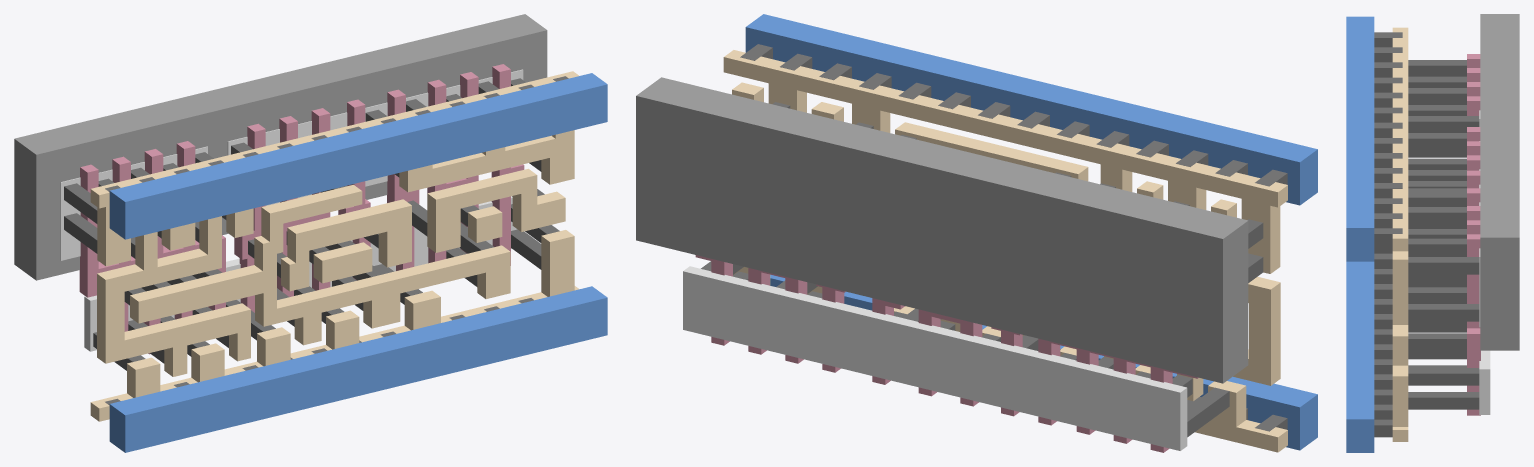
The model's file is sky130_fd_sc_hd__a211o_4.gds.gltf.
The picture shows the model from 3 angles, left to right: view 1: azimuth 30°, elevation 25°; view 2: azimuth 150°, elevation 25°; view 3: azimuth 270°, elevation 25°; orthographic projection. The views are drawn at different scales.
Parts seen in each view (by area): view 1: sky130_fd_sc_hd__a211o_4_li1, sky130_fd_sc_hd__a211o_4_met1, sky130_fd_sc_hd__a211o_4_nwell, sky130_fd_sc_hd__a211o_4_poly, sky130_fd_sc_hd__a211o_4_licon, sky130_fd_sc_hd__a211o_4_diff, sky130_fd_sc_hd__a211o_4_mcon; view 2: sky130_fd_sc_hd__a211o_4_nwell, sky130_fd_sc_hd__a211o_4_diff, sky130_fd_sc_hd__a211o_4_li1, sky130_fd_sc_hd__a211o_4_met1, sky130_fd_sc_hd__a211o_4_poly, sky130_fd_sc_hd__a211o_4_mcon, sky130_fd_sc_hd__a211o_4_licon; view 3: sky130_fd_sc_hd__a211o_4_licon, sky130_fd_sc_hd__a211o_4_nwell, sky130_fd_sc_hd__a211o_4_met1, sky130_fd_sc_hd__a211o_4_mcon, sky130_fd_sc_hd__a211o_4_li1, sky130_fd_sc_hd__a211o_4_poly, sky130_fd_sc_hd__a211o_4_diff.
Boxes of the visible parts, box(x1,y1,x2,y2) form: sky130_fd_sc_hd__a211o_4_li1: box(90, 71, 579, 421); sky130_fd_sc_hd__a211o_4_met1: box(109, 73, 607, 452); sky130_fd_sc_hd__a211o_4_nwell: box(14, 14, 547, 280); sky130_fd_sc_hd__a211o_4_poly: box(79, 64, 524, 354); sky130_fd_sc_hd__a211o_4_licon: box(64, 78, 559, 370); sky130_fd_sc_hd__a211o_4_diff: box(60, 69, 523, 351); sky130_fd_sc_hd__a211o_4_mcon: box(105, 76, 568, 405); sky130_fd_sc_hd__a211o_4_nwell: box(636, 77, 1248, 383); sky130_fd_sc_hd__a211o_4_diff: box(683, 266, 1187, 450); sky130_fd_sc_hd__a211o_4_li1: box(723, 50, 1287, 452); sky130_fd_sc_hd__a211o_4_met1: box(745, 14, 1317, 450); sky130_fd_sc_hd__a211o_4_poly: box(695, 255, 1198, 452); sky130_fd_sc_hd__a211o_4_mcon: box(740, 44, 1287, 431); sky130_fd_sc_hd__a211o_4_licon: box(701, 102, 1263, 437); sky130_fd_sc_hd__a211o_4_licon: box(1408, 60, 1479, 409); sky130_fd_sc_hd__a211o_4_nwell: box(1480, 14, 1519, 350); sky130_fd_sc_hd__a211o_4_met1: box(1346, 16, 1374, 452); sky130_fd_sc_hd__a211o_4_mcon: box(1374, 32, 1402, 437); sky130_fd_sc_hd__a211o_4_li1: box(1392, 27, 1408, 441); sky130_fd_sc_hd__a211o_4_poly: box(1467, 54, 1480, 415); sky130_fd_sc_hd__a211o_4_diff: box(1479, 110, 1490, 414).
Bounding box in the file's own units: 6.82 × 3.2 × 2.24.
